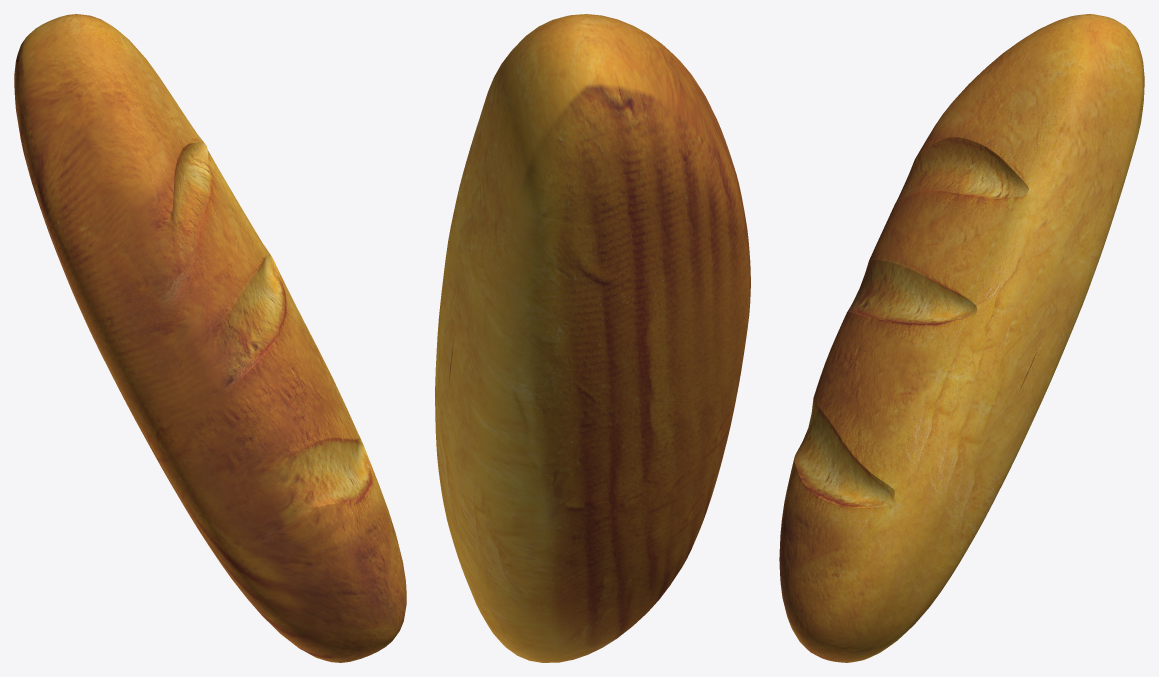
File: baguette.fbx
3 views of the same model, side by side, from view 1: azimuth 30°, elevation 25°; view 2: azimuth 150°, elevation 25°; view 3: azimuth 270°, elevation 25° (orthographic). The views are drawn at different scales.
Parts seen in each view (by area): view 1: Cube.020; view 2: Cube.020; view 3: Cube.020.
Part boxes in pixels (<box>): Cube.020: <box>14,14,406,662</box>; Cube.020: <box>435,14,750,662</box>; Cube.020: <box>779,14,1144,662</box>.
Bounding box in the file's own units: 124 × 252 × 146.
